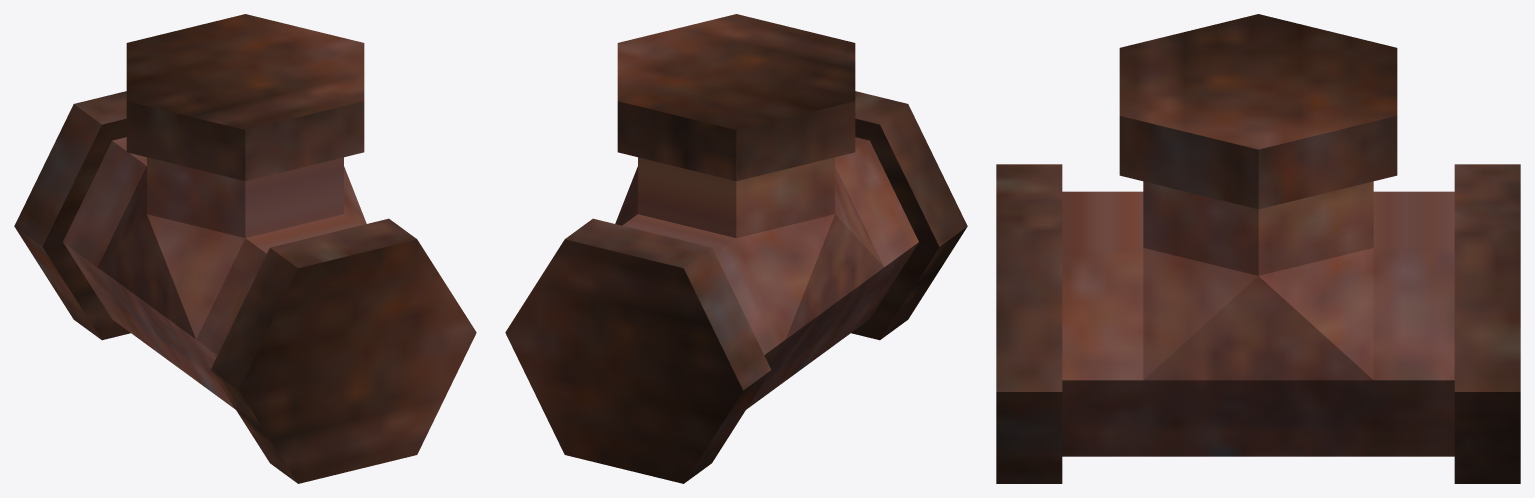
The model's file is MESH_PIPE_BIG_3.fbx.
3 renders of one model, left to right at view 1: azimuth 30°, elevation 25°; view 2: azimuth 150°, elevation 25°; view 3: azimuth 270°, elevation 25°, orthographic. The views are drawn at different scales.
Visible parts, largest first — view 1: MESH_PIPE_BIG_3; view 2: MESH_PIPE_BIG_3; view 3: MESH_PIPE_BIG_3.
Boxes of the visible parts, bbox=[...] form: MESH_PIPE_BIG_3: bbox=[14, 14, 476, 483]; MESH_PIPE_BIG_3: bbox=[505, 14, 967, 483]; MESH_PIPE_BIG_3: bbox=[996, 14, 1520, 483].
Size of the model in its own units: 0.7 by 0.8861 by 1.14.
